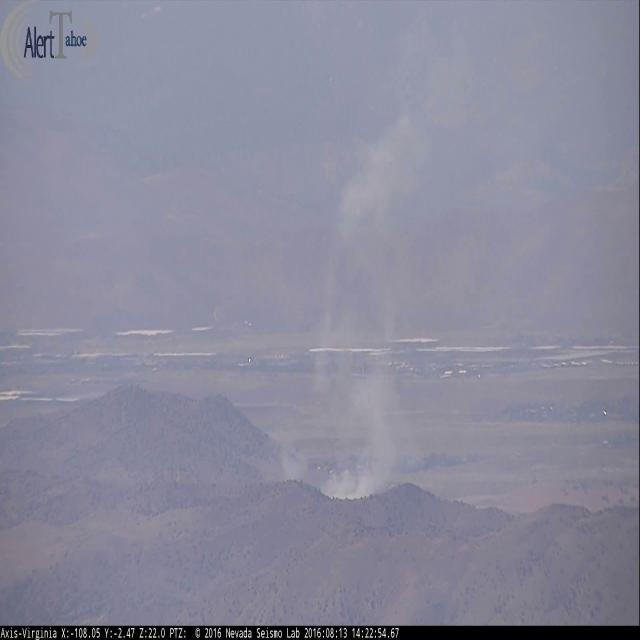smoke: (283, 0, 496, 500)
